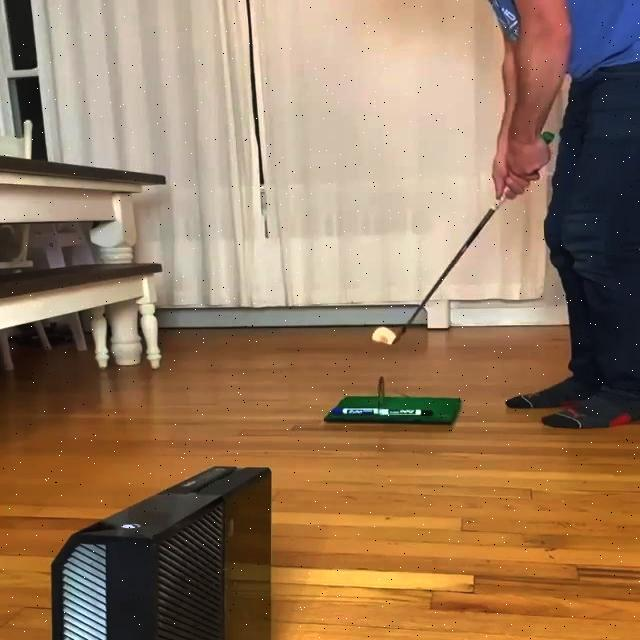ClubHead: (372, 326, 400, 346)
